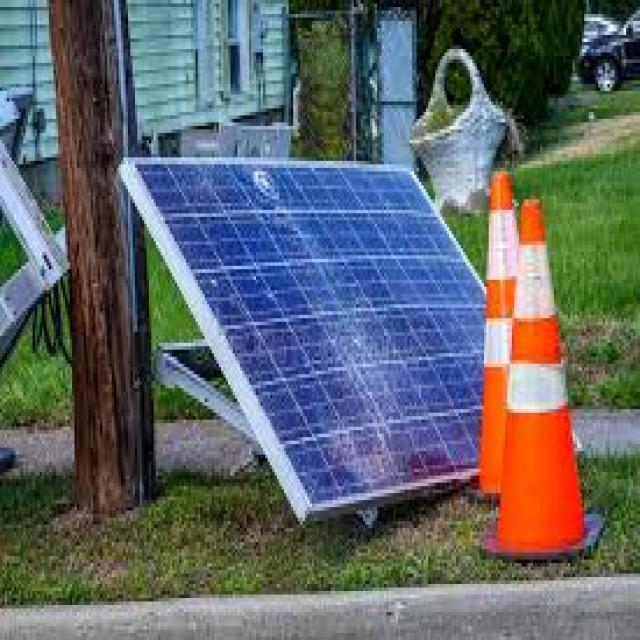faulty: (129, 161, 486, 498)
